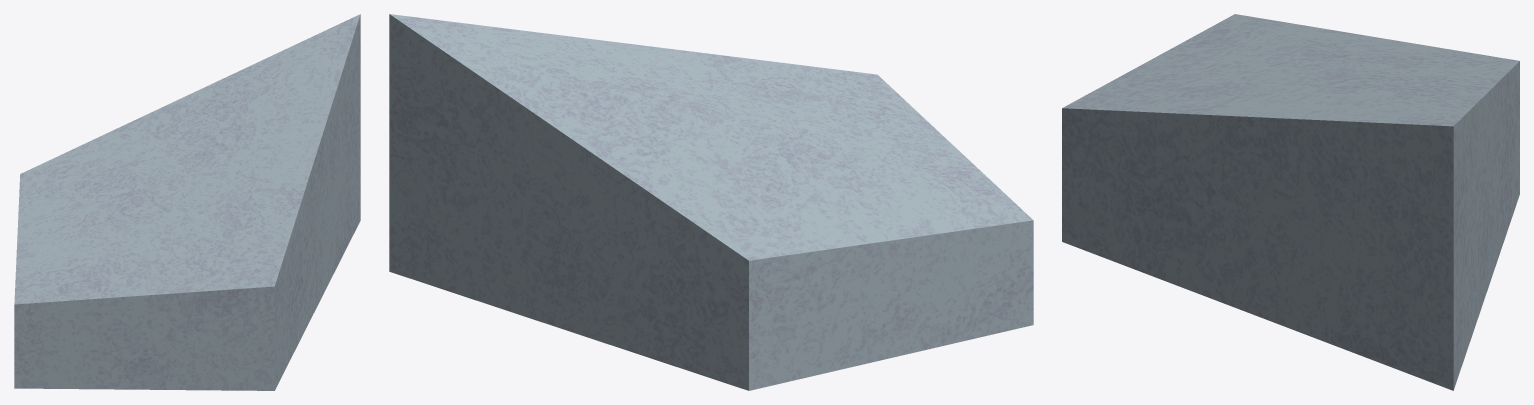
The model's file is SalaPays.gltf.
3 views of the same model, side by side, from view 1: azimuth 30°, elevation 25°; view 2: azimuth 150°, elevation 25°; view 3: azimuth 270°, elevation 25° (orthographic). The views are drawn at different scales.
Parts seen in each view (by area): view 1: SalaPays; view 2: SalaPays; view 3: SalaPays.
Part boxes in pixels (x1,y1,x2,y2): SalaPays: (14, 14, 360, 390); SalaPays: (389, 14, 1033, 390); SalaPays: (1062, 14, 1519, 390).
Size of the model in its own units: 1.04 by 0.476 by 0.7464.
1 material, 1 textured.
